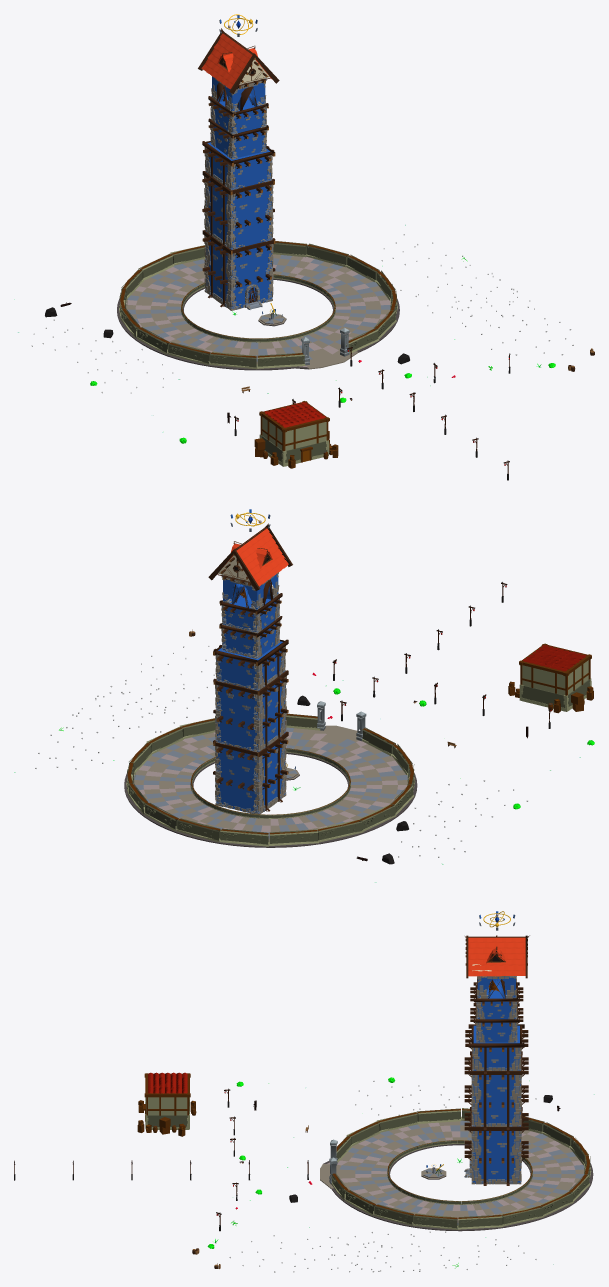
Rendered from chunk_1_2.glb.
3 renders of one model, top to bottom at view 1: azimuth 30°, elevation 25°; view 2: azimuth 150°, elevation 25°; view 3: azimuth 270°, elevation 25°, orthographic. The views are drawn at different scales.
Visible parts, largest first — view 1: House_3.001, Path_Straight.001, Wall_SecondAge, Storage_SecondAge_Level2.001, Wall_SecondAge.001; view 2: House_3.001, Path_Straight.001, Wall_SecondAge, Storage_SecondAge_Level2.001, Wall_SecondAge.001; view 3: House_3.001, Path_Straight.001, Wall_SecondAge, Storage_SecondAge_Level2.001, Wall_SecondAge.001.
Boxes of the visible parts, x1,y1,x2,y2 form: House_3.001: (198,28,279,310); Path_Straight.001: (117,254,399,370); Wall_SecondAge: (119,241,397,369); Storage_SecondAge_Level2.001: (254,401,338,468); Wall_SecondAge.001: (181,274,335,342); House_3.001: (208,523,292,814); Path_Straight.001: (124,725,417,847); Wall_SecondAge: (126,713,415,846); Storage_SecondAge_Level2.001: (508,643,593,713); Wall_SecondAge.001: (190,748,350,818); House_3.001: (464,935,529,1185); Path_Straight.001: (320,1120,593,1231); Wall_SecondAge: (331,1108,591,1229); Storage_SecondAge_Level2.001: (137,1072,196,1136); Wall_SecondAge.001: (387,1140,532,1204).
Bounding box in the file's own units: 88.76 × 56.13 × 113.
Materials: 2 (2 with a texture image).
